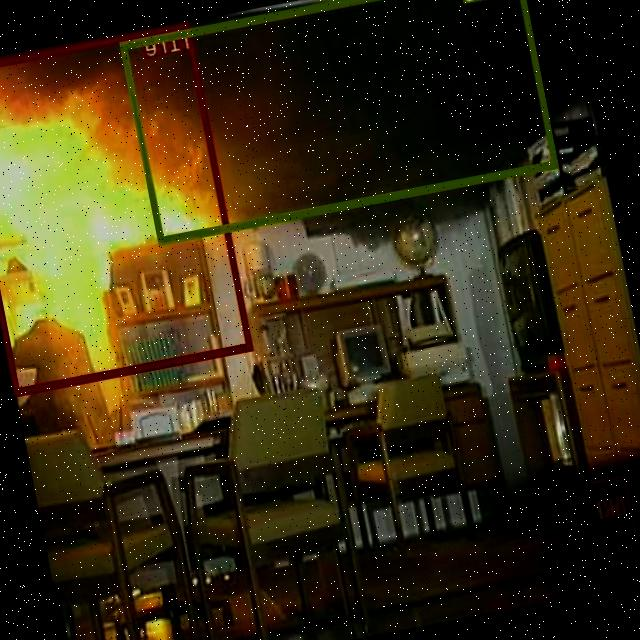fire: (0, 20, 254, 394)
smoke: (121, 0, 559, 242)
